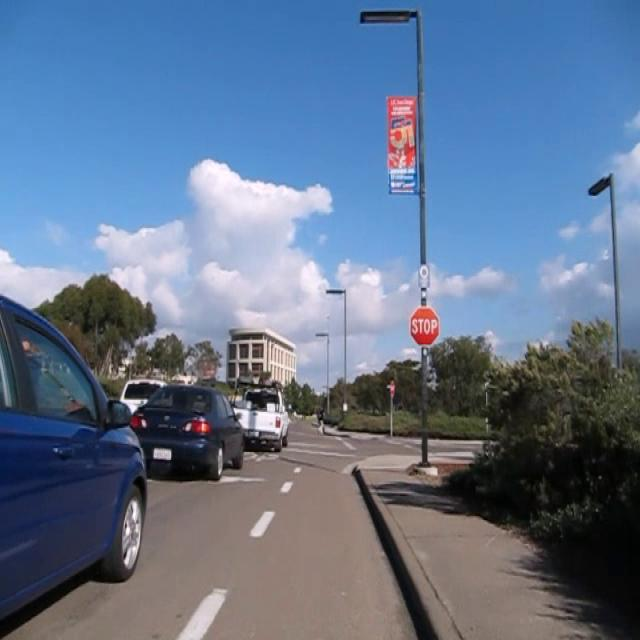stop_sign: (409, 305, 440, 347)
